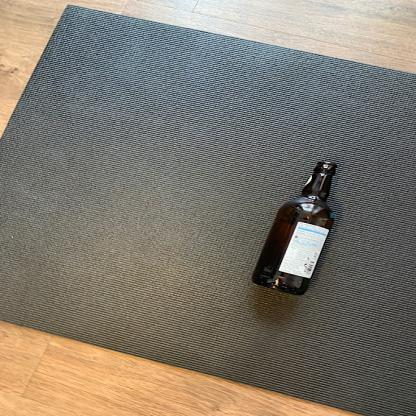trash: (252, 158, 340, 297)
